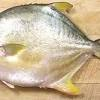Ikan Bawal: (1, 1, 100, 95)
